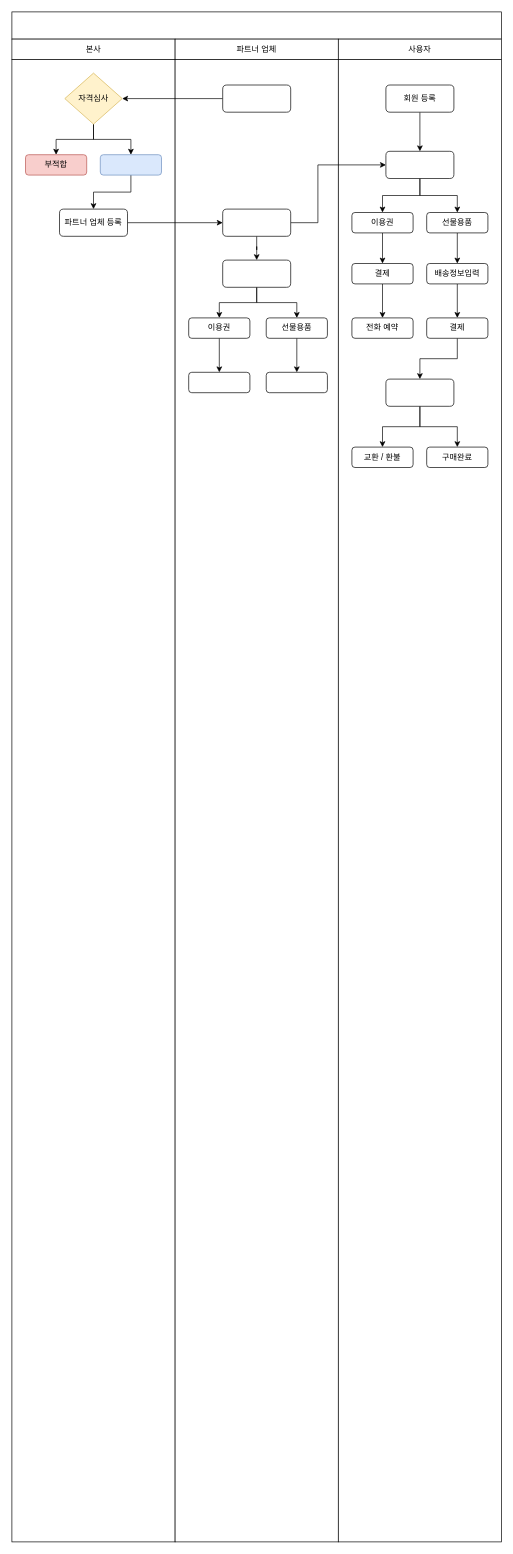
The diagram is 513 pixels wide and 1554 high, and some of its shapes have lost their labels. The centre of each missing label's shape, as x and y in pixels:
배송: the point at 296,382
배송조회: the point at 419,392
상품 등록: the point at 256,222
상품 선택: the point at 419,164
쇼핑몰: the point at 256,25
예약 받음: the point at 219,382
적합: the point at 131,164
제휴 신청: the point at 256,98
주문내역확인: the point at 256,273
